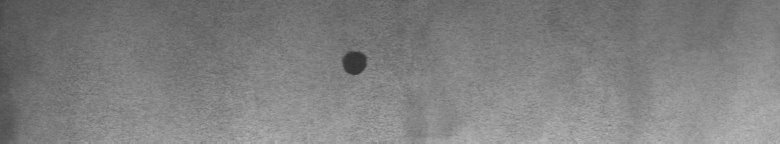fi: (336, 40, 383, 84)
